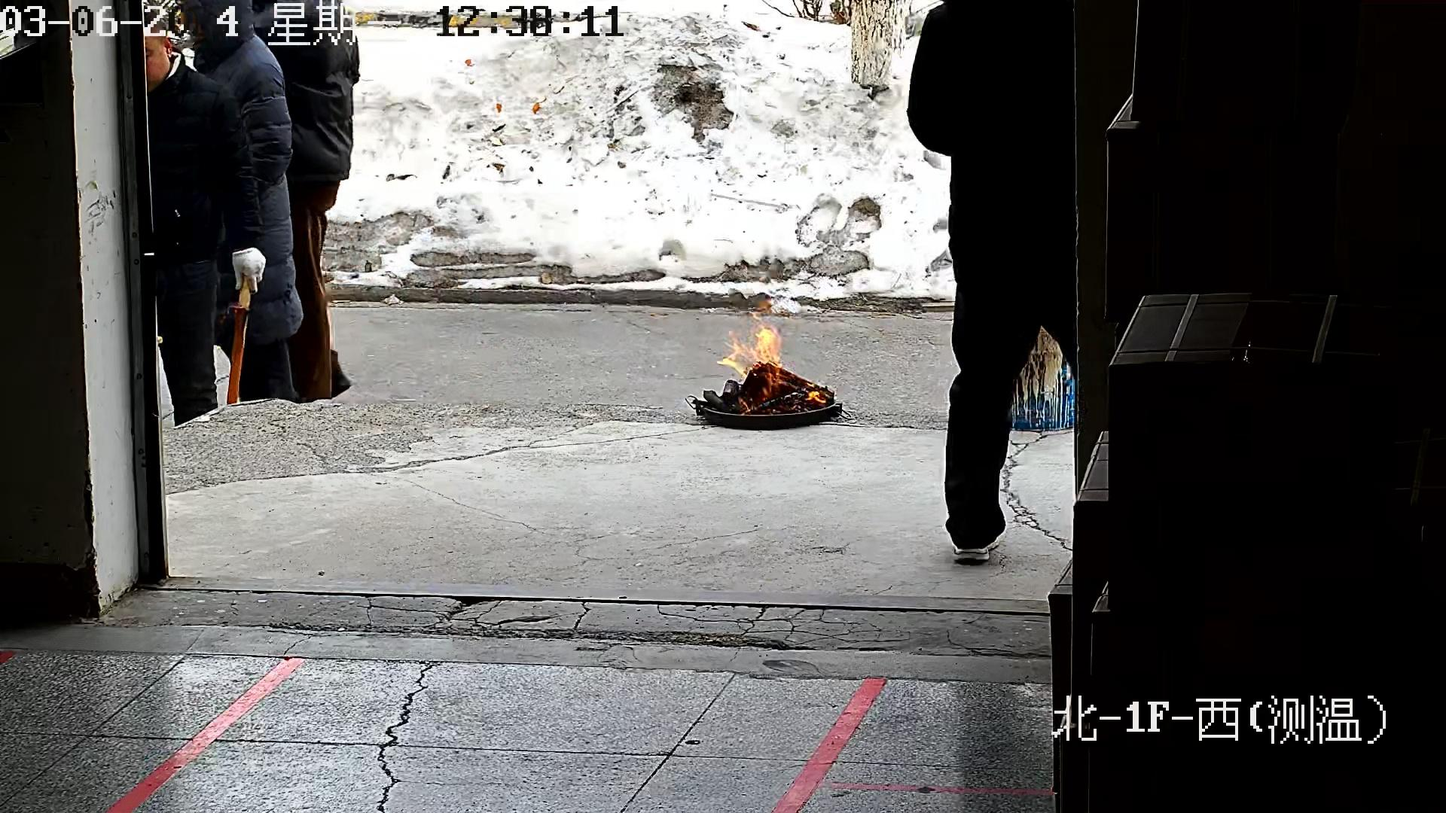fire: (718, 312, 781, 379)
